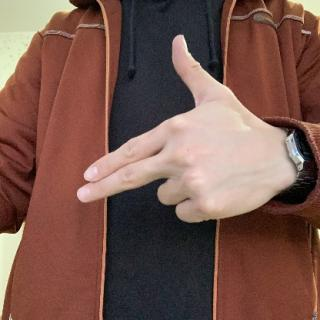GHAYN: (72, 29, 285, 226)
